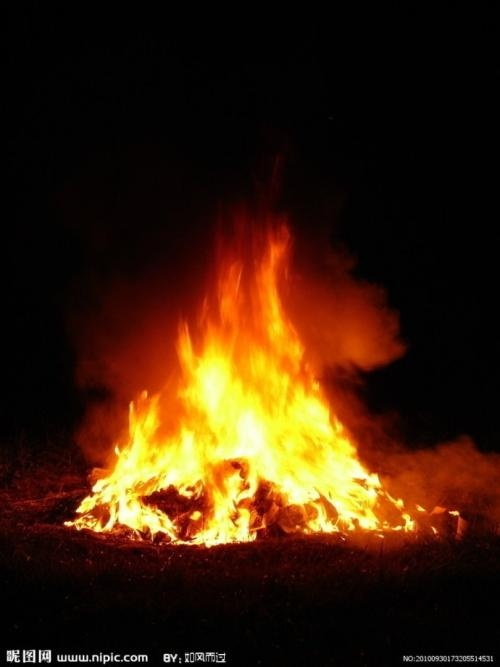fire: (63, 213, 418, 549)
